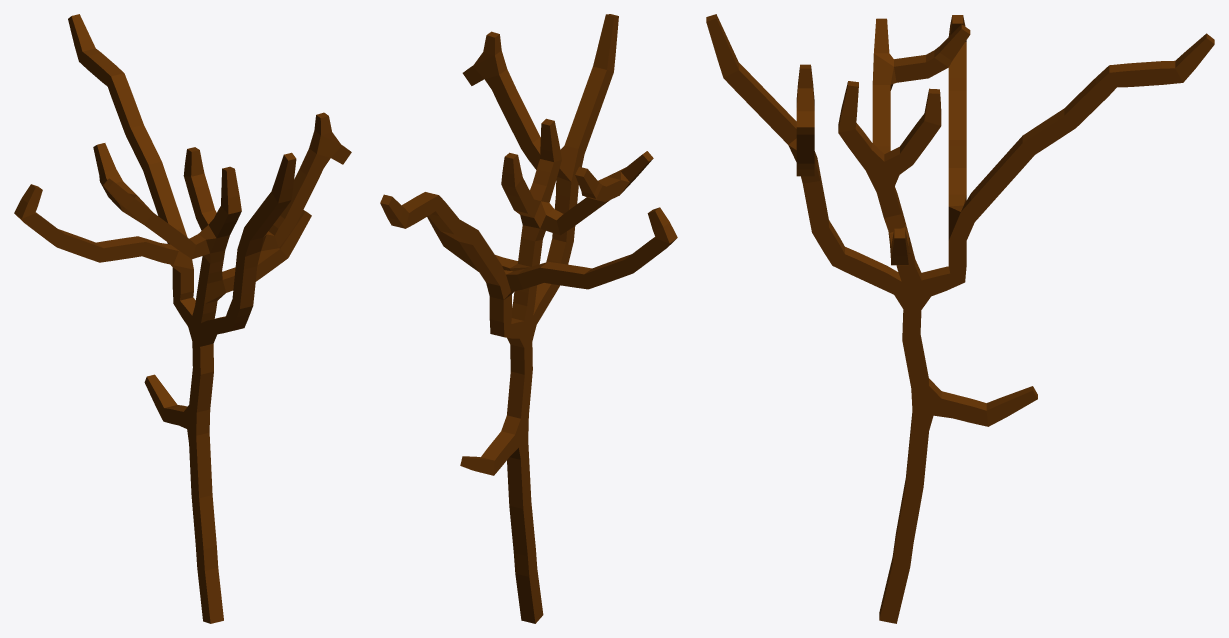
The model's file is Big Dead Tree.fbx.
The picture shows the model from 3 angles, left to right: view 1: azimuth 30°, elevation 25°; view 2: azimuth 150°, elevation 25°; view 3: azimuth 270°, elevation 25°; orthographic projection. The views are drawn at different scales.
Visible parts, largest first — view 1: Circle.005; view 2: Circle.005; view 3: Circle.005.
Part boxes in pixels (x1,y1,x2,y2): Circle.005: (14, 14, 351, 623); Circle.005: (380, 14, 677, 623); Circle.005: (706, 14, 1214, 623).
Size of the model in its own units: 305 by 572 by 437.
